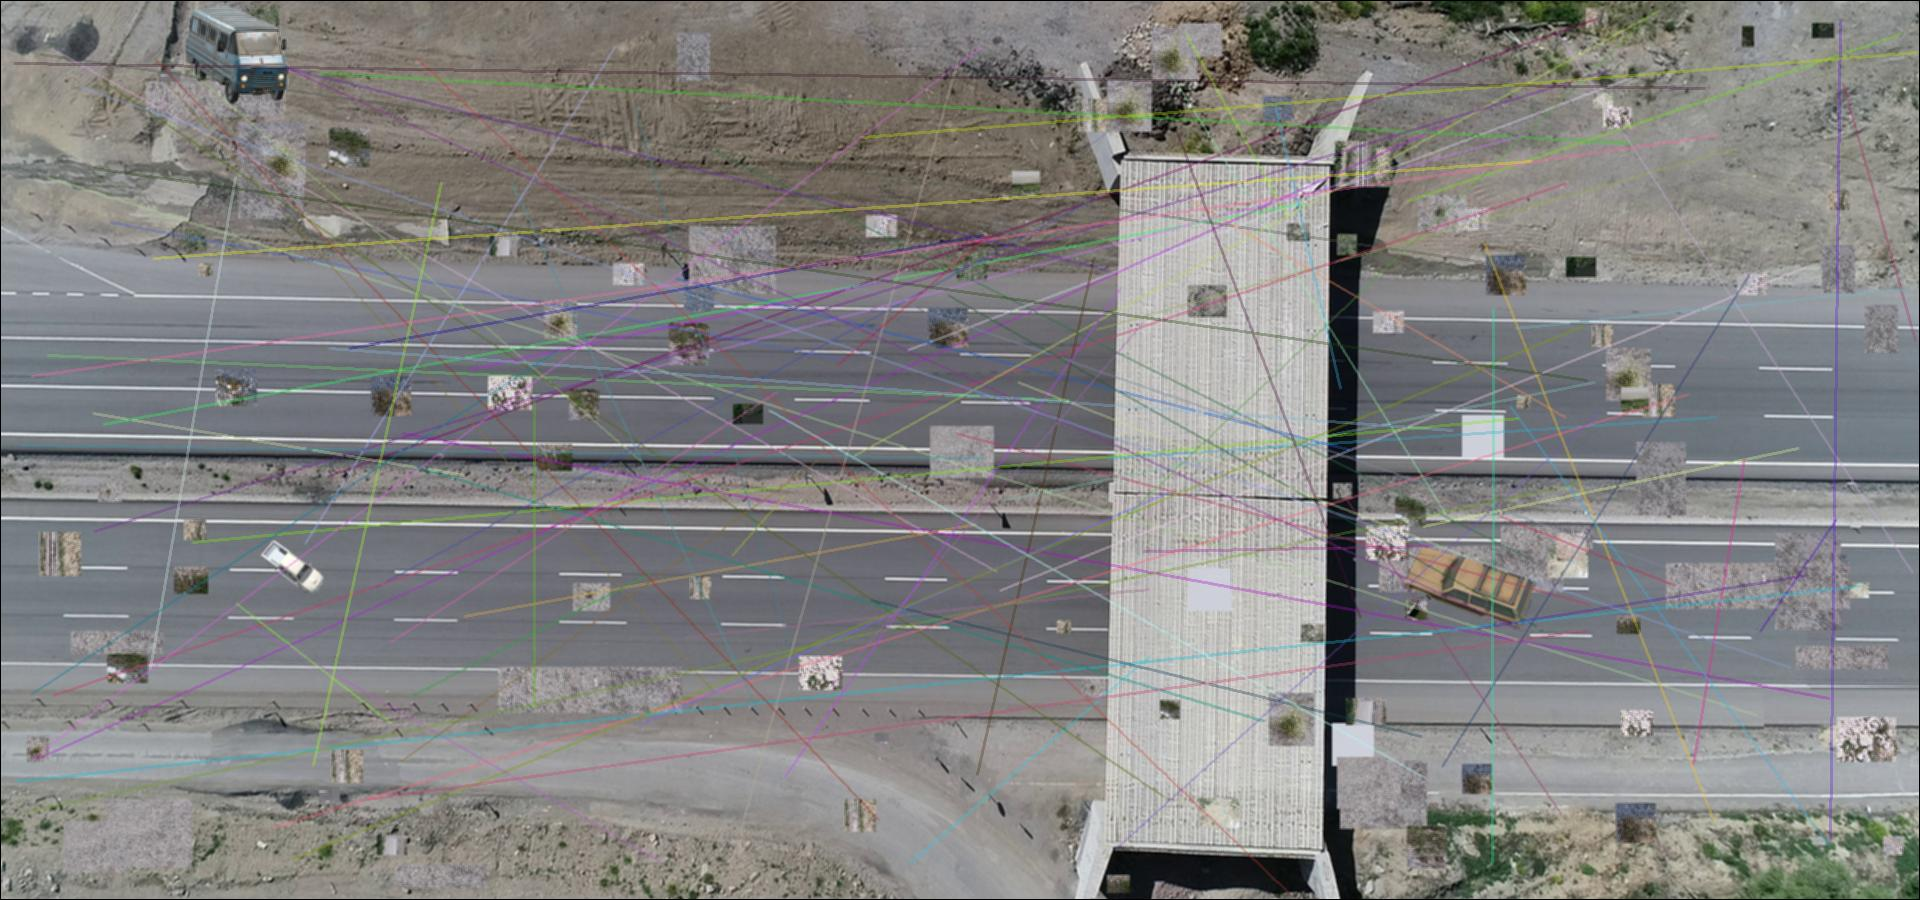arac: (1404, 542, 1537, 634), (182, 5, 291, 105), (257, 539, 326, 593)
